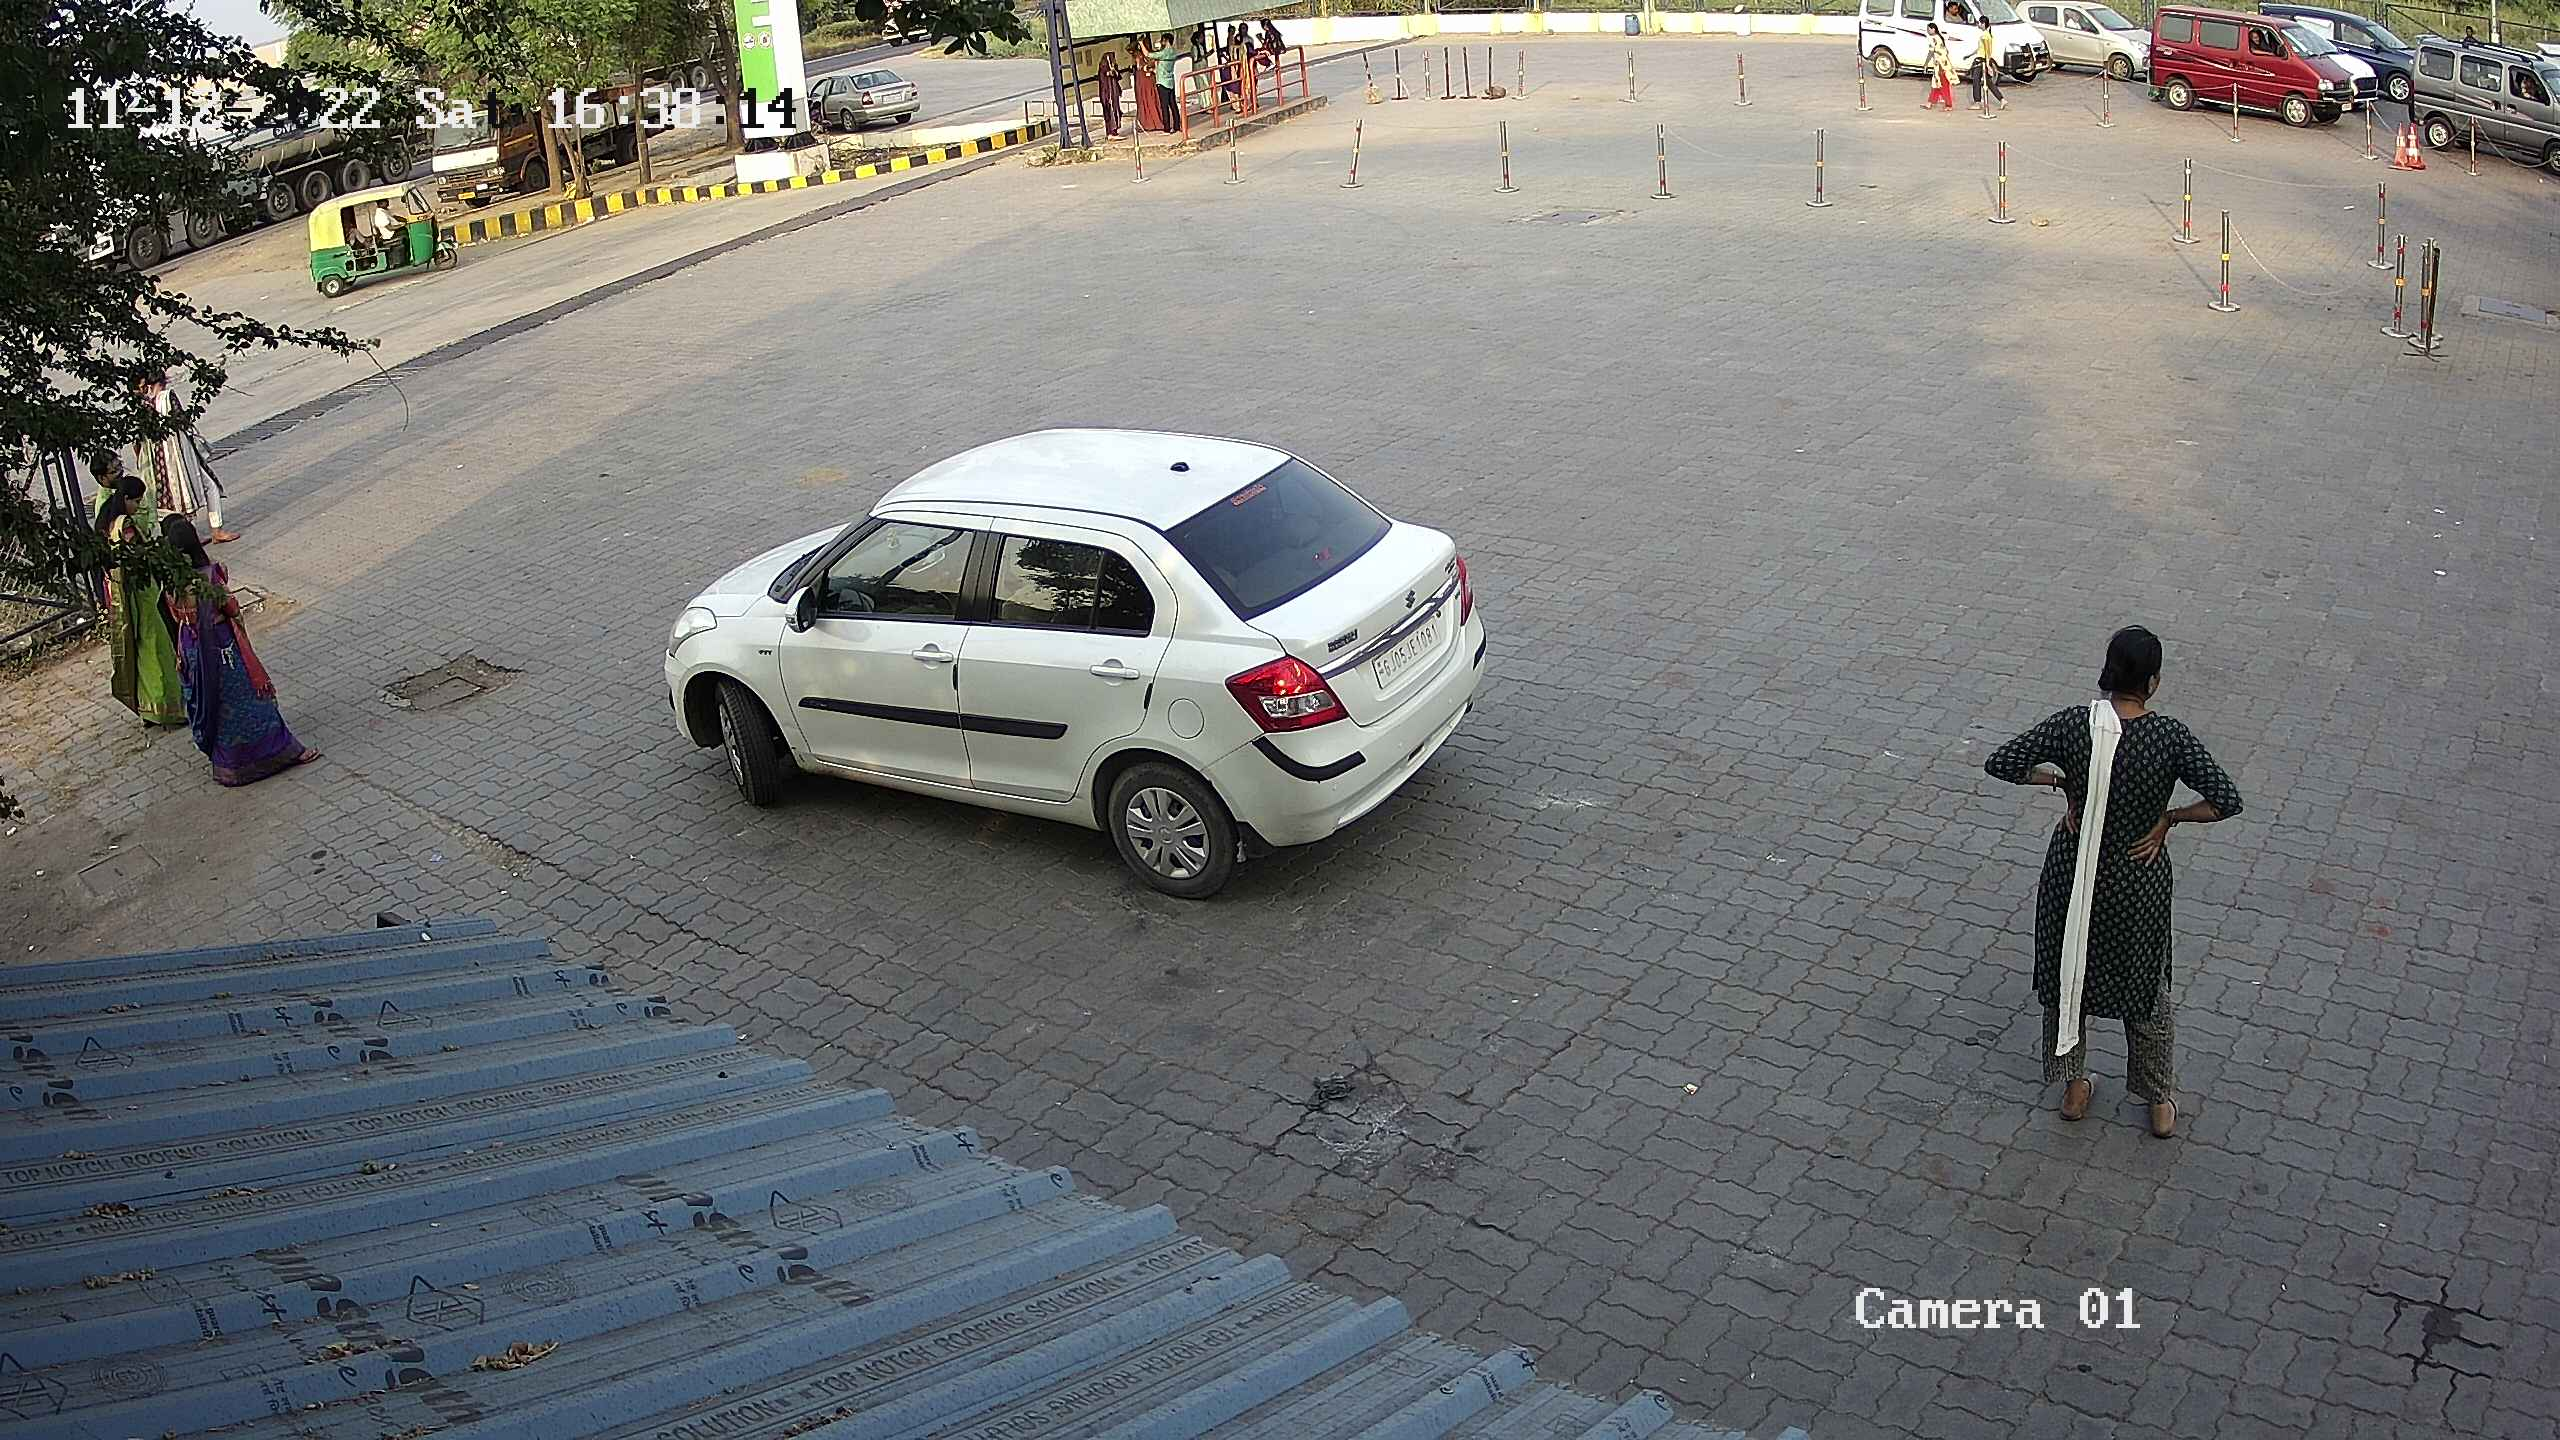Auto: (295, 171, 469, 306)
Car: (651, 411, 1493, 911), (2135, 0, 2361, 135), (2396, 23, 2556, 186), (1846, 0, 2061, 95), (2249, 2, 2425, 107), (2008, 0, 2159, 90), (804, 55, 927, 139), (2300, 26, 2388, 118), (2518, 26, 2556, 90)
HMV: (105, 32, 429, 281), (418, 67, 559, 227)
